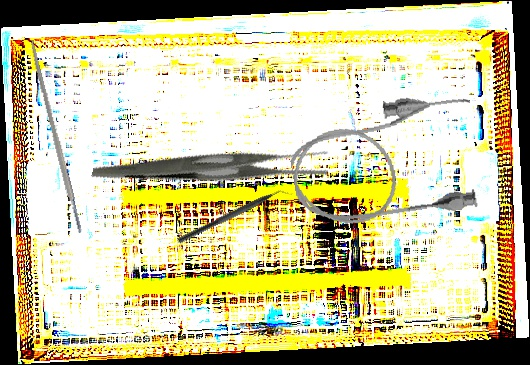Cannula: (282, 86, 489, 239)
Chopper: (176, 182, 294, 252)
Dressing Forceps: (90, 90, 334, 240)
Scalpel Handle: (27, 39, 84, 235)
